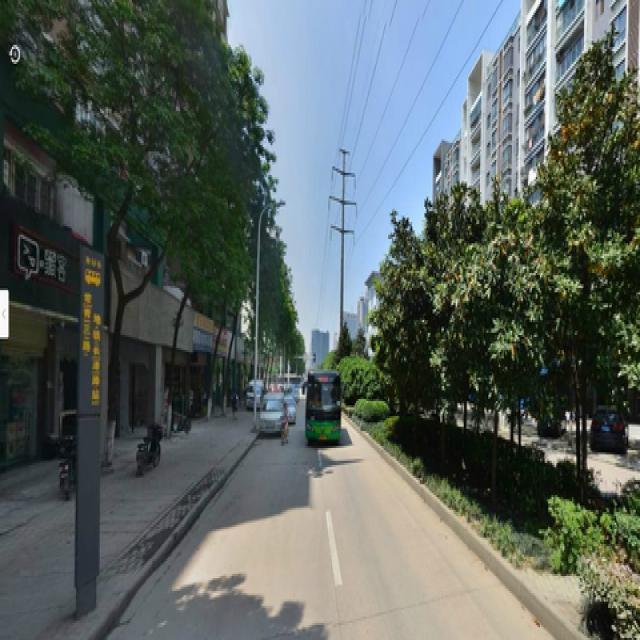magn: (540, 62, 628, 471)
